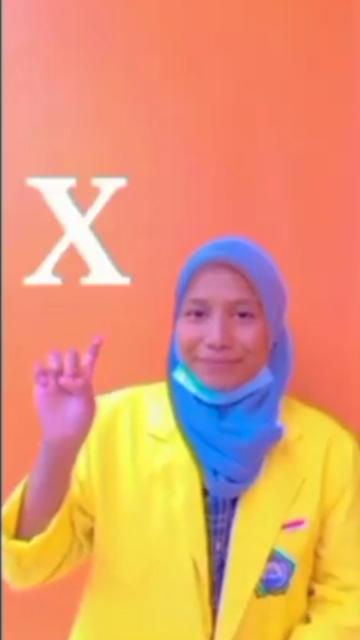X: (32, 333, 109, 451)
